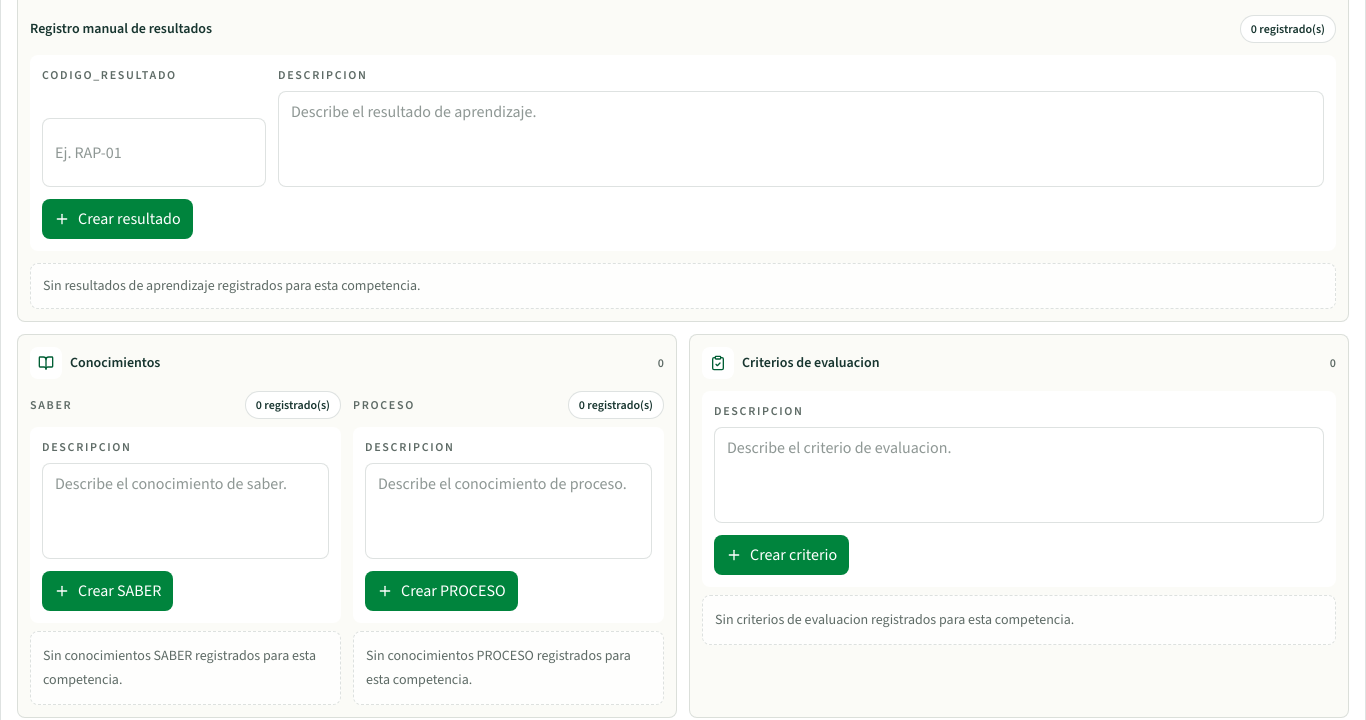
Test: ProgramaCompetenciasManager › should show API errors such as duplicate SABER knowledge
This screenshot has width=1366, height=720.
(page scrolled)
Expected: the heading "Conocimientos" is shown, [70,353,160,373]
Type "Arquitectura" into the 3rd text box with placeholder "Describe el conocimiento de saber.".
click(186, 511); type("Arquitectura")  # box [42,463,329,559]
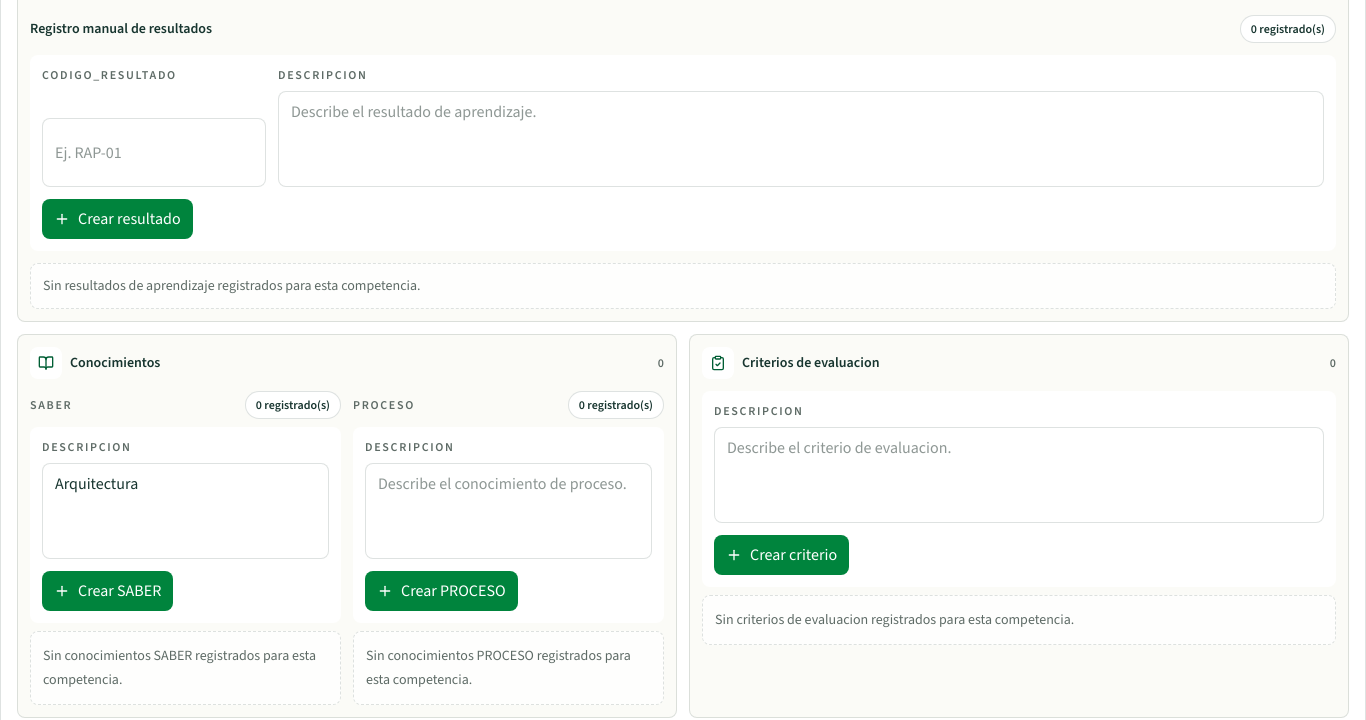
Submit the form "descripcion Crear SABER", box [30,427,341,623]
(page scrolled)
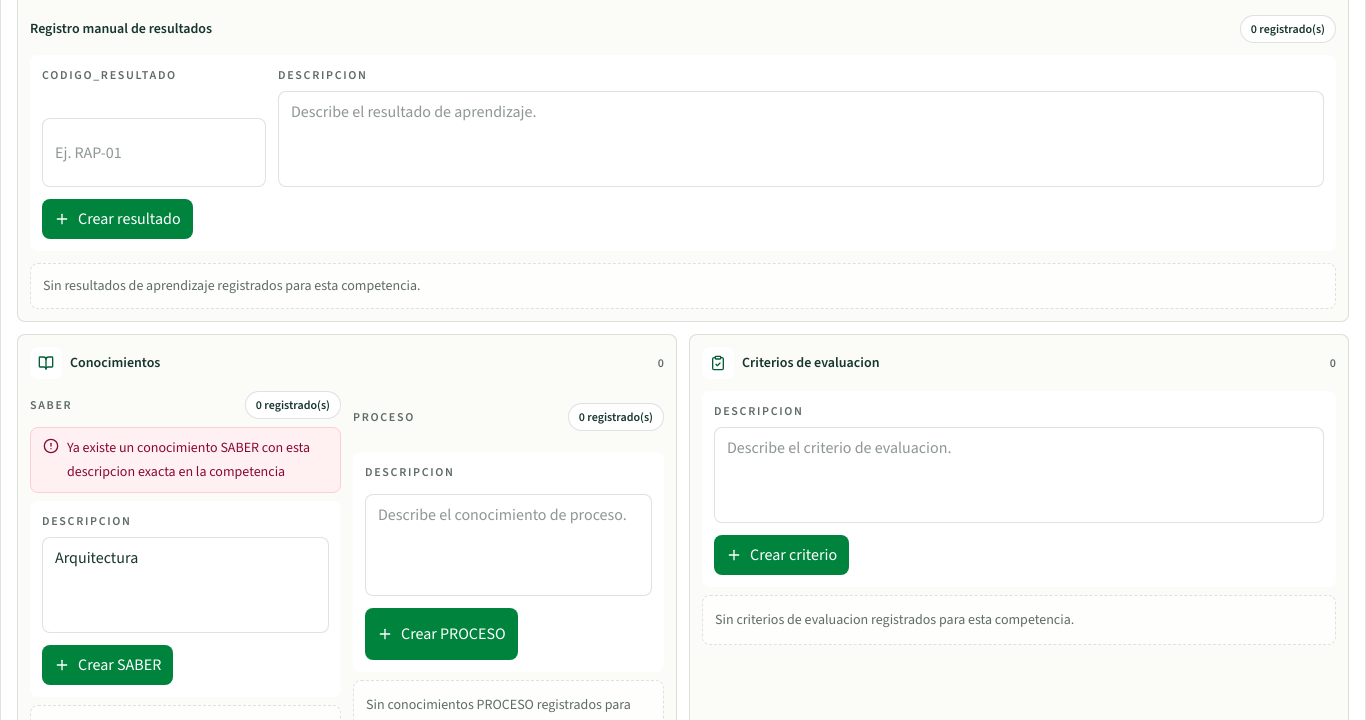
Expected: the text "Ya existe un conocimiento SABER con esta descripcion exacta en la competencia" is shown, [67,436,328,484]
